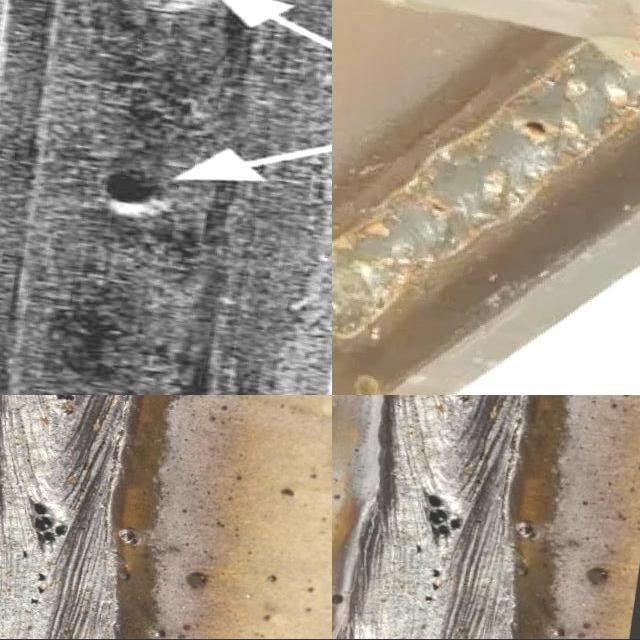defect: (72, 160, 165, 226), (419, 488, 468, 552), (25, 500, 73, 553), (25, 570, 49, 610), (422, 566, 445, 606), (515, 120, 549, 139), (419, 198, 449, 217), (49, 396, 81, 407), (332, 592, 345, 607), (413, 544, 422, 556)
